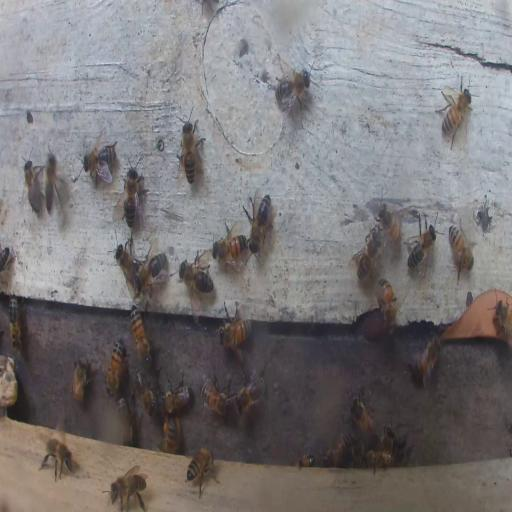nonpollenbee: (438, 82, 474, 142), (176, 109, 203, 185), (409, 332, 443, 391), (405, 216, 439, 273), (81, 136, 119, 184), (244, 192, 273, 254), (272, 64, 311, 109), (109, 468, 148, 512), (350, 228, 383, 279), (447, 220, 475, 280), (40, 433, 74, 482), (185, 444, 217, 496), (372, 194, 402, 248), (214, 222, 250, 265), (180, 252, 212, 299), (123, 160, 144, 229), (234, 370, 265, 416), (130, 304, 152, 366), (114, 241, 140, 292), (136, 251, 166, 294), (44, 148, 63, 212), (162, 376, 191, 416), (22, 156, 42, 213), (218, 314, 252, 347), (320, 431, 352, 466), (105, 338, 125, 394), (377, 278, 399, 328), (350, 394, 376, 436), (200, 382, 231, 417), (70, 354, 90, 404), (0, 355, 19, 407), (134, 366, 155, 413), (392, 434, 414, 462), (9, 295, 20, 347), (367, 449, 395, 467), (350, 438, 365, 466), (382, 429, 396, 452), (0, 248, 11, 273), (297, 454, 316, 468)
pollenbee: (162, 413, 181, 452)
